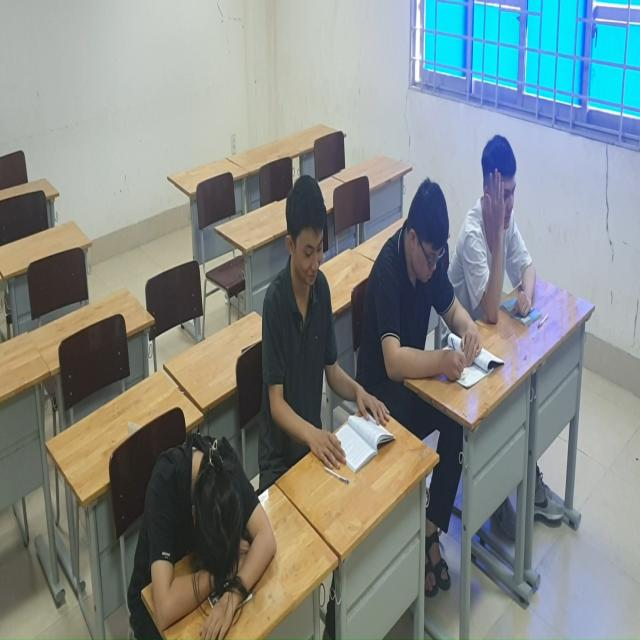raise_hand: (466, 121, 549, 337)
read: (252, 162, 397, 483), (373, 178, 485, 425)
sleep: (124, 439, 295, 640)
